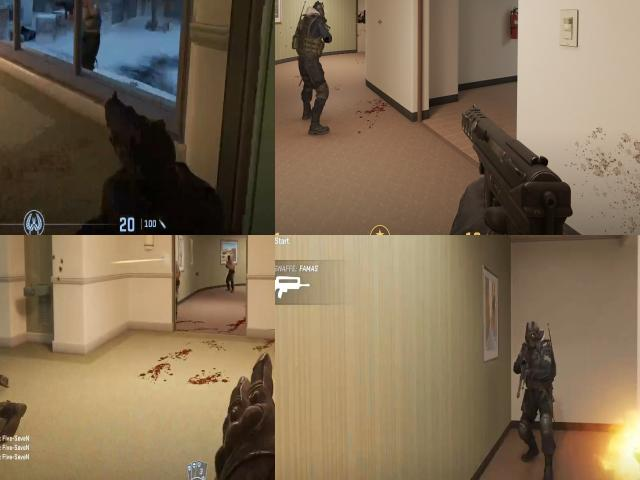CT: (300, 2, 328, 133), (520, 317, 554, 417), (525, 319, 544, 352)
CT-Head: (311, 0, 325, 19)
T: (78, 0, 102, 67), (222, 252, 238, 276)
T-Head: (176, 260, 184, 307), (225, 253, 232, 262)
